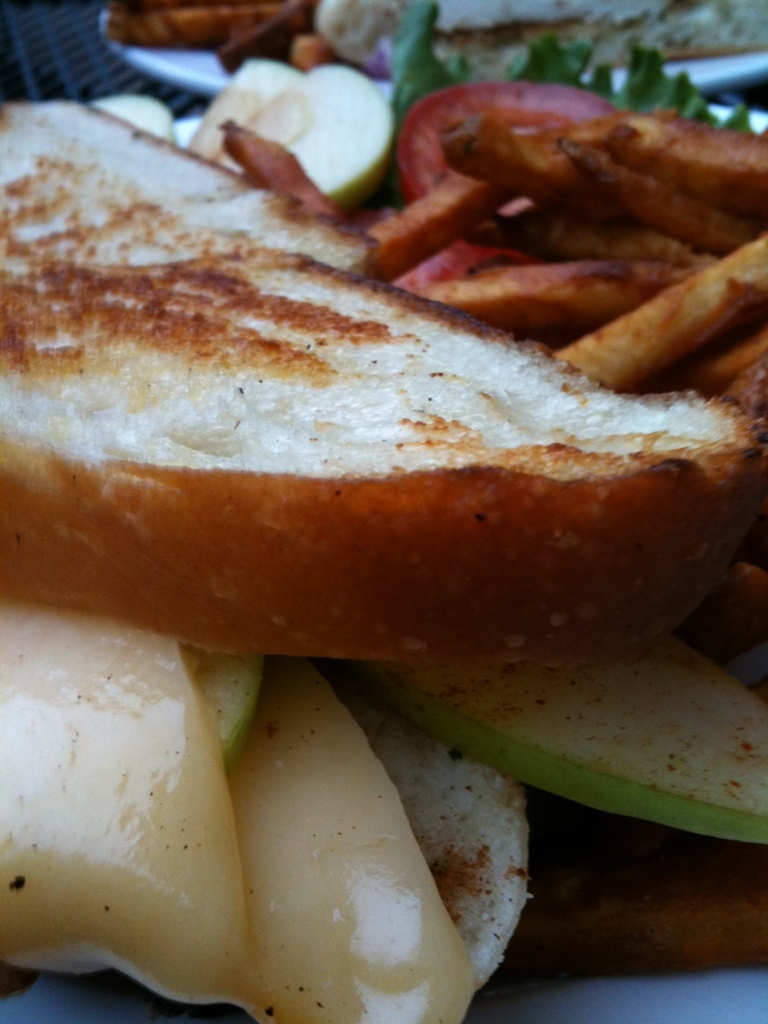French fries: (328, 61, 766, 369)
